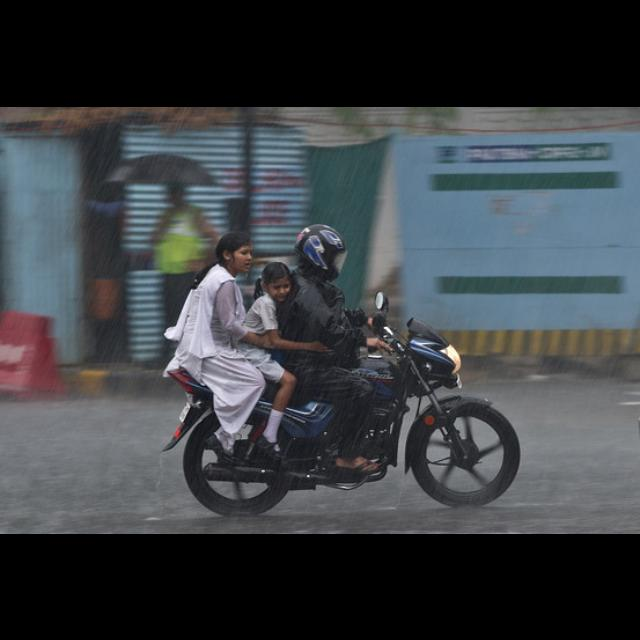With Helmet: (292, 218, 351, 284)
